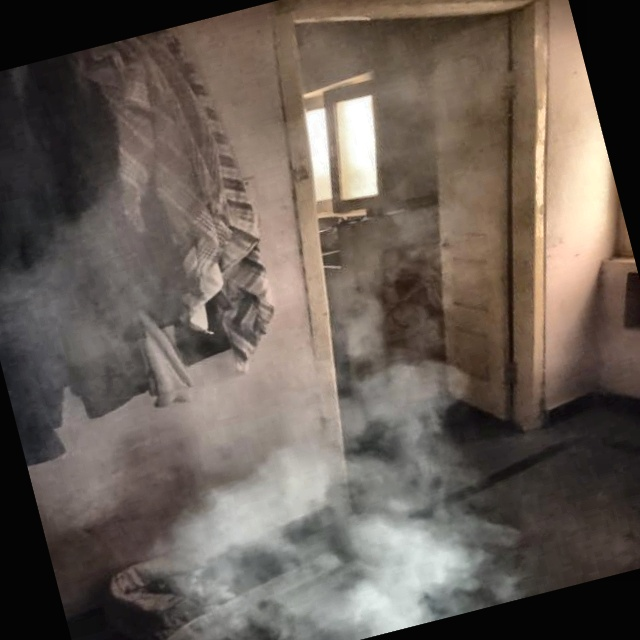smoke: (156, 383, 464, 640)
